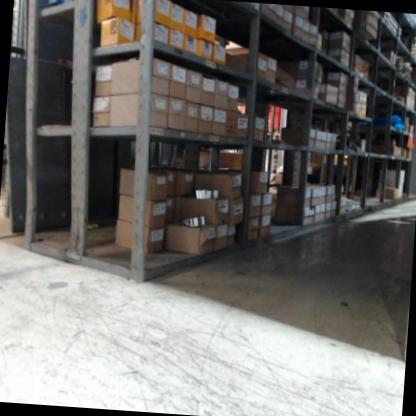small_load_carrier: (48, 0, 74, 6)
